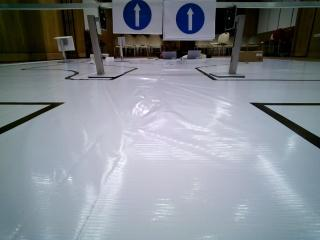straight: (162, 0, 214, 40), (116, 2, 163, 32)
